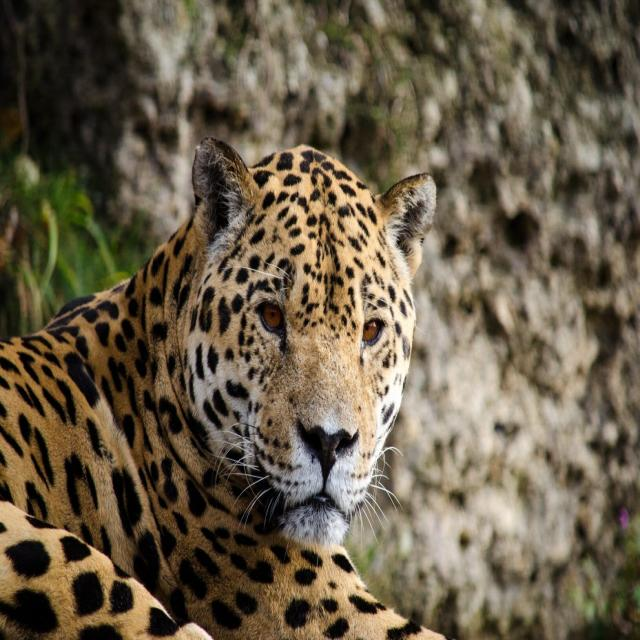Jaguar: (0, 132, 451, 640)
